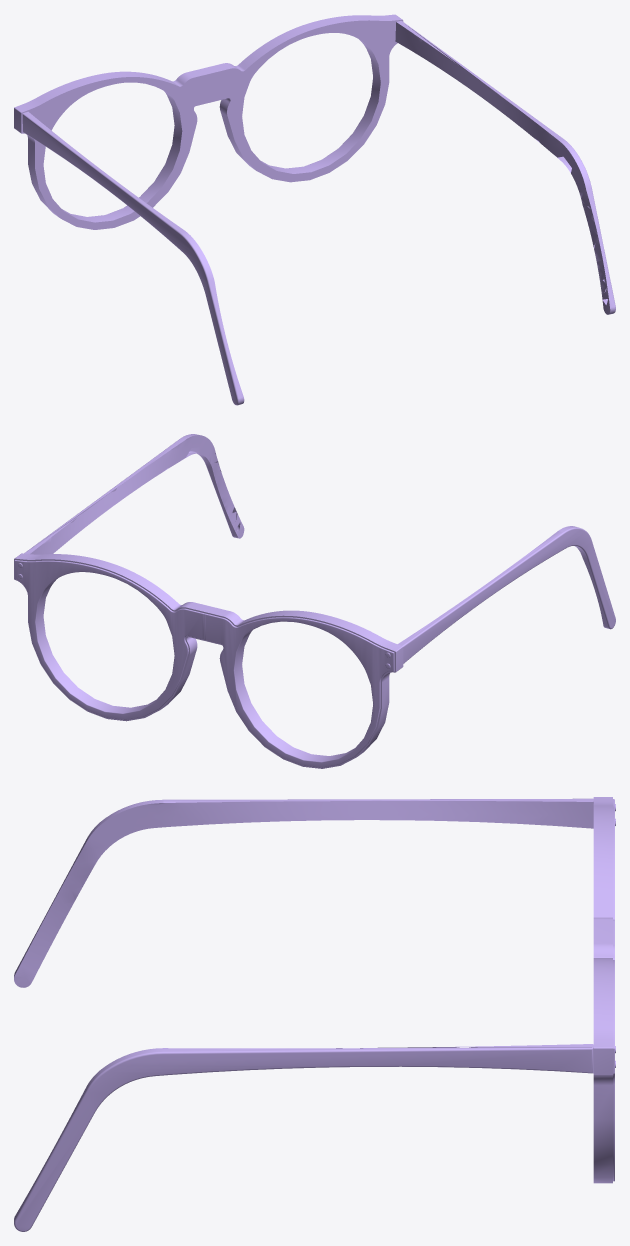
3 renders of one model, top to bottom at view 1: azimuth 30°, elevation 25°; view 2: azimuth 150°, elevation 25°; view 3: azimuth 270°, elevation 25°, orthographic. The views are drawn at different scales.
Parts seen in each view (by area): view 1: 3; view 2: 3; view 3: 3.
Boxes of the visible parts, bbox=[...] form: 3: bbox=[14, 14, 615, 405]; 3: bbox=[14, 434, 615, 768]; 3: bbox=[14, 797, 615, 1231].
Size of the model in its own units: 15.21 by 5.68 by 15.27.
